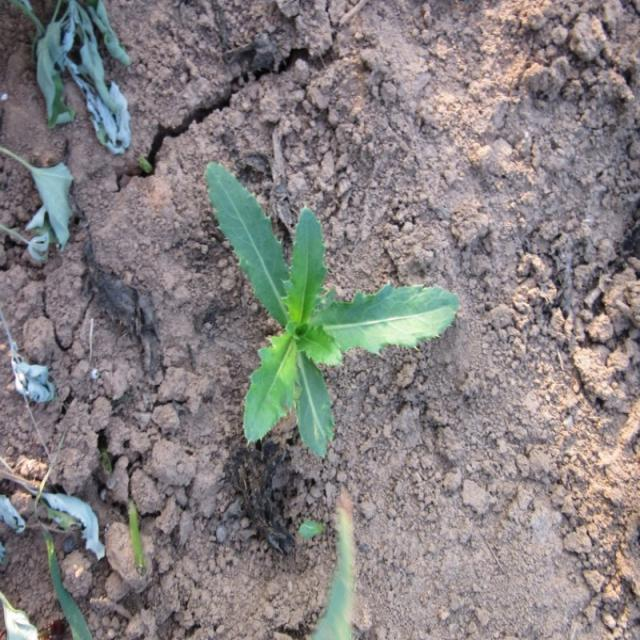cs: (204, 159, 460, 460)
